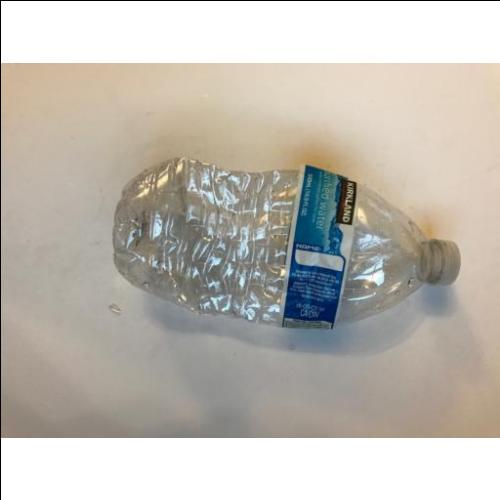plastic: (116, 159, 460, 329)
